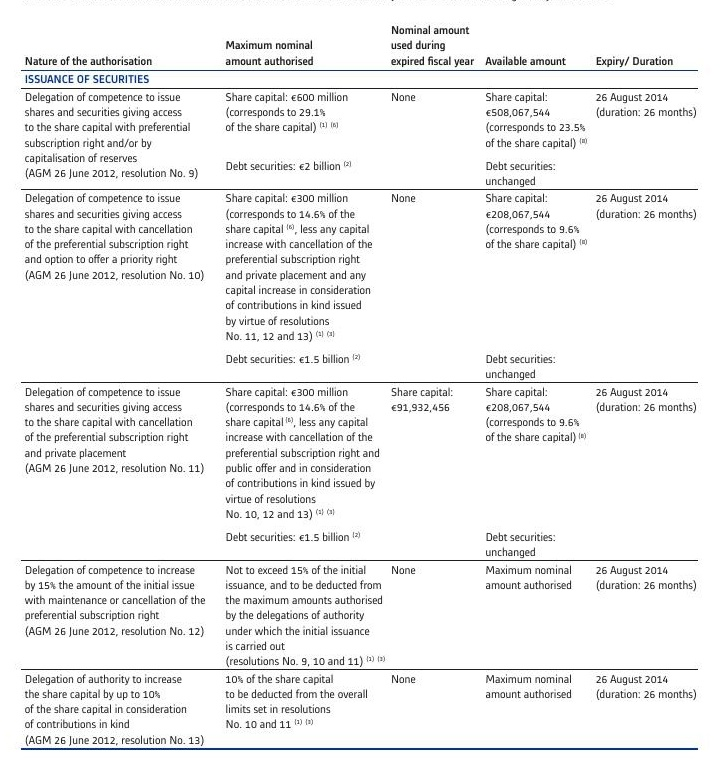table: (0, 0, 721, 760)
